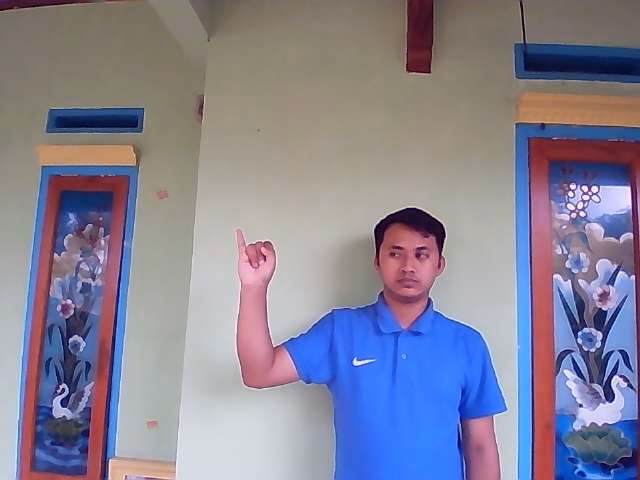I: (236, 227, 277, 282)
